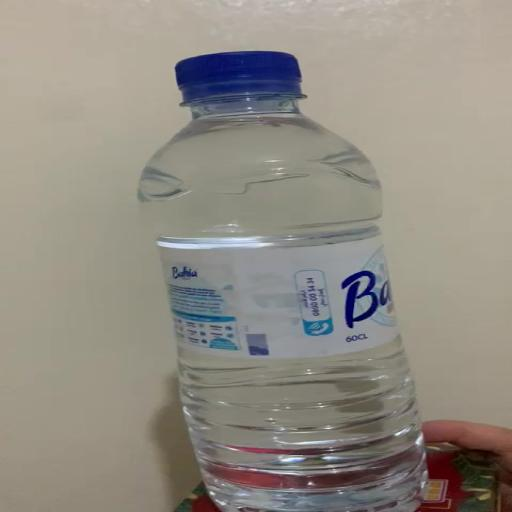bouteille conformite: (137, 49, 451, 511)
